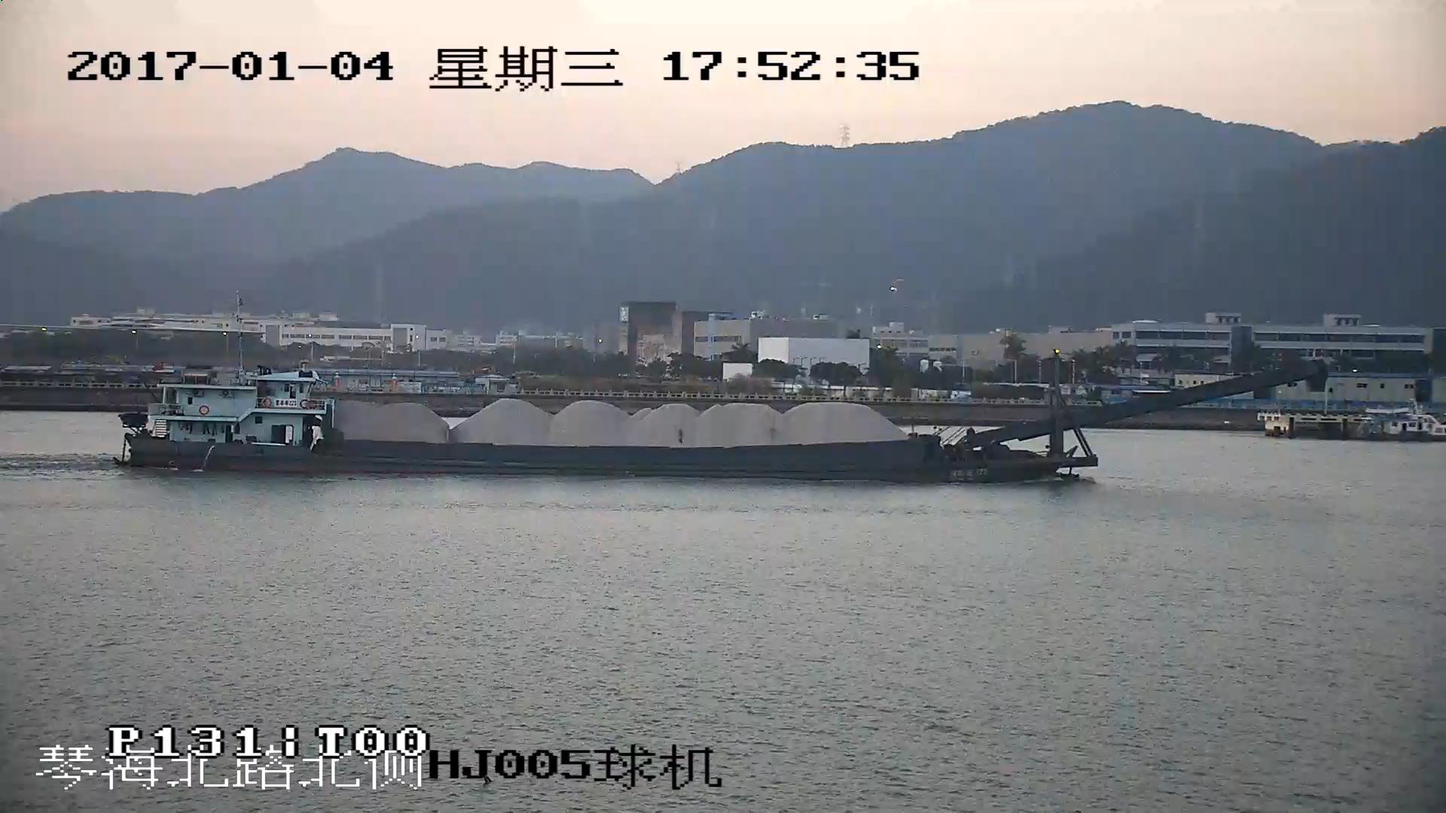ore carrier: (124, 360, 1318, 481)
